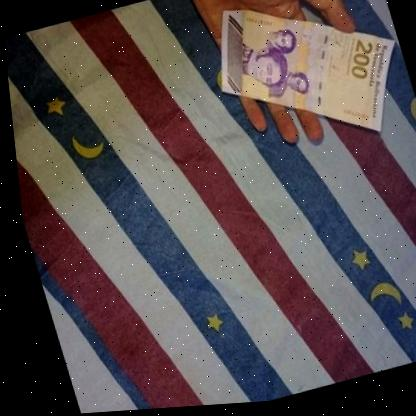two_hundred-front-vef: (194, 0, 416, 173)
